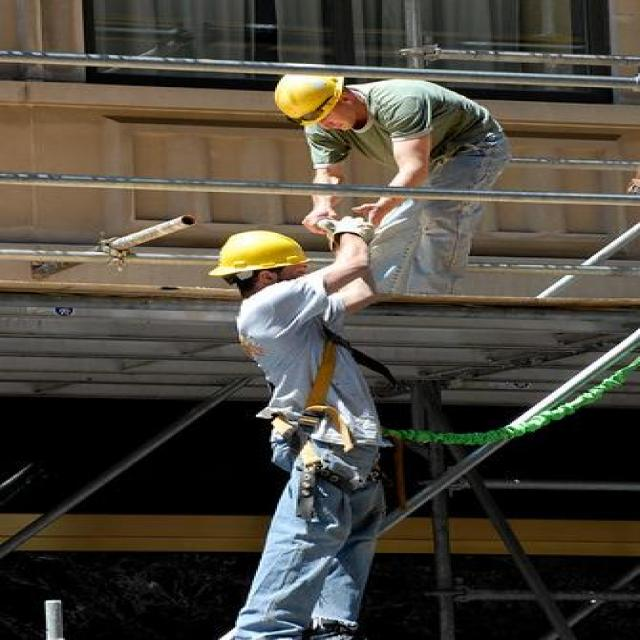Safety-Helmet: (202, 226, 312, 282), (266, 69, 348, 128)
